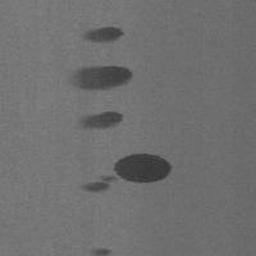Oil spot: (76, 151, 174, 196), (67, 64, 136, 93), (74, 110, 125, 134), (79, 26, 125, 45), (88, 246, 114, 256)
